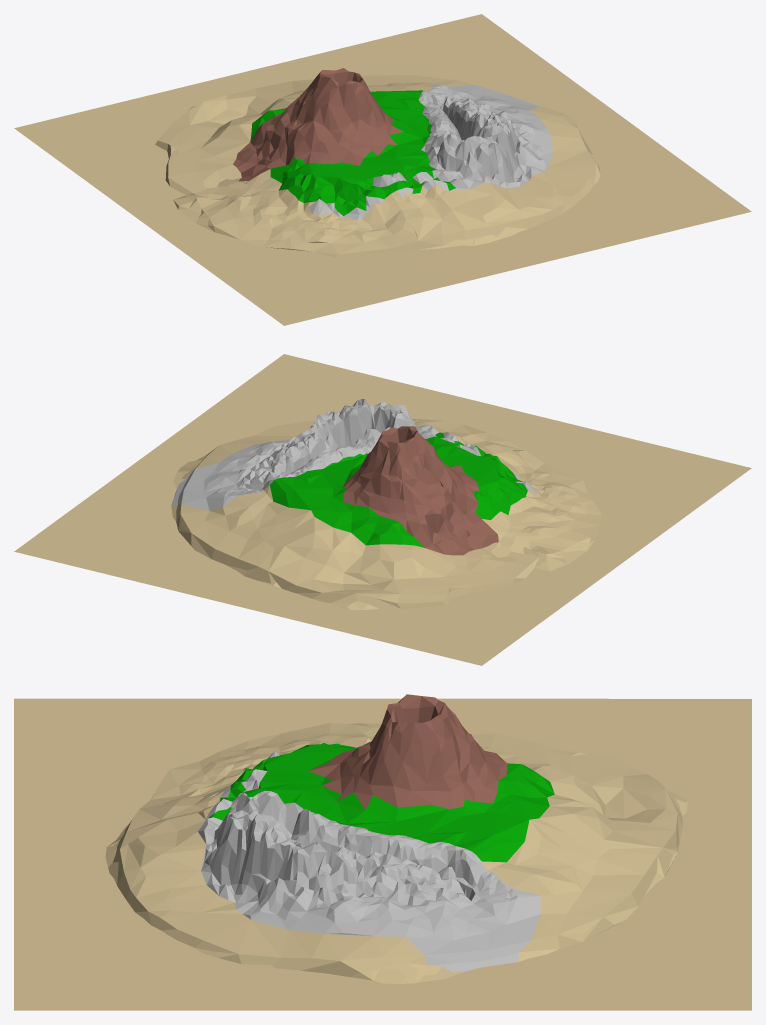
The model's file is island_prototype.fbx.
3 renders of one model, top to bottom at view 1: azimuth 30°, elevation 25°; view 2: azimuth 150°, elevation 25°; view 3: azimuth 270°, elevation 25°, orthographic. The views are drawn at different scales.
Parts seen in each view (by area): view 1: Island; view 2: Island; view 3: Island.
Boxes of the visible parts, x1,y1,x2,y2 form: Island: [14, 14, 751, 325]; Island: [14, 354, 751, 665]; Island: [14, 694, 751, 1010].
Size of the model in its own units: 348590 by 68613 by 348589.
